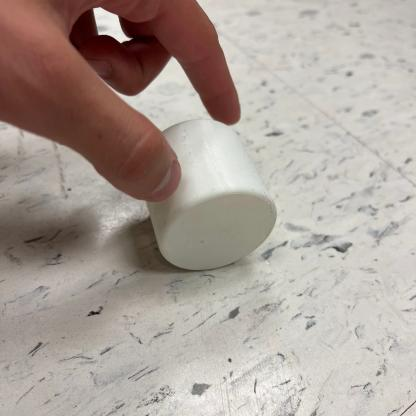white cylinder: (140, 117, 278, 273)
